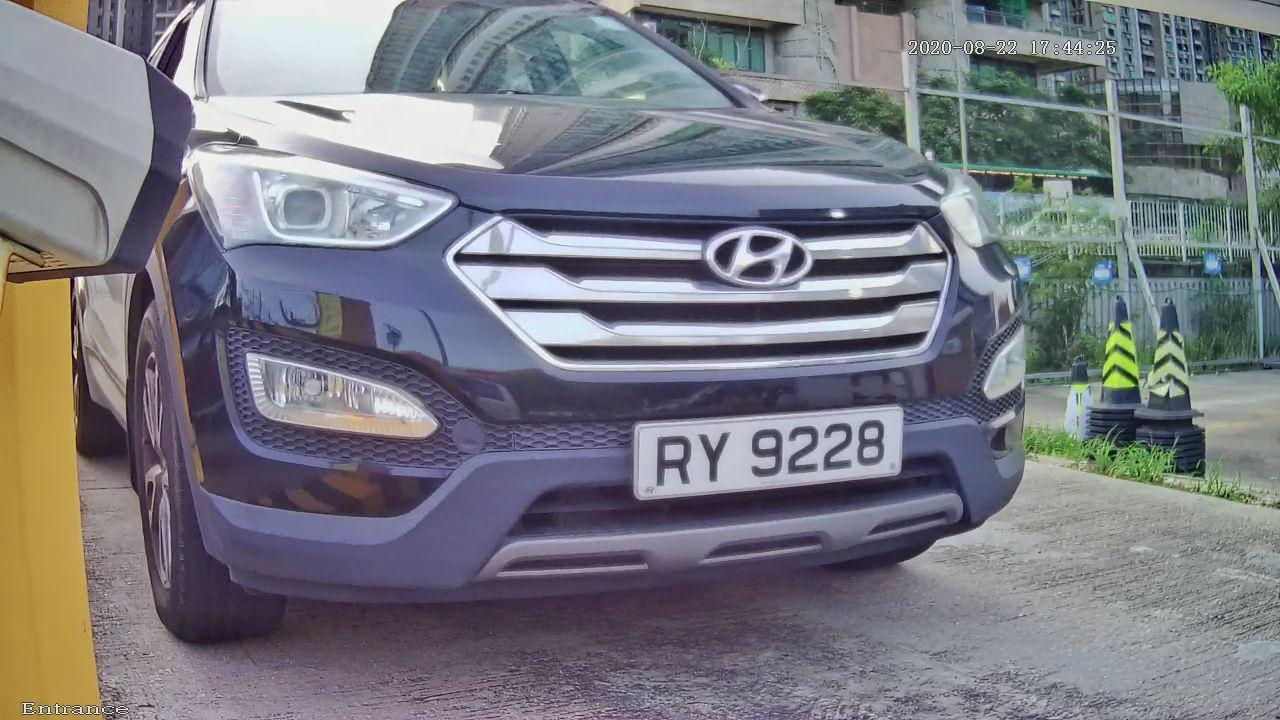Car: (52, 10, 1103, 647)
License Plate: (571, 378, 960, 522)
